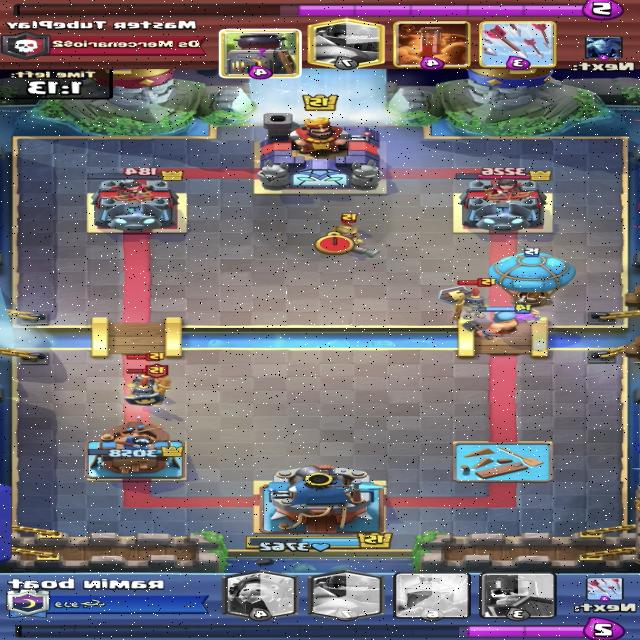Enemy-Guard: (454, 277, 499, 323), (122, 363, 169, 407), (126, 352, 167, 391)
Enemy-Musketeer: (326, 214, 382, 258)
Player-Balloon: (489, 248, 578, 308)
Player-Lumberjack: (463, 302, 542, 339)
